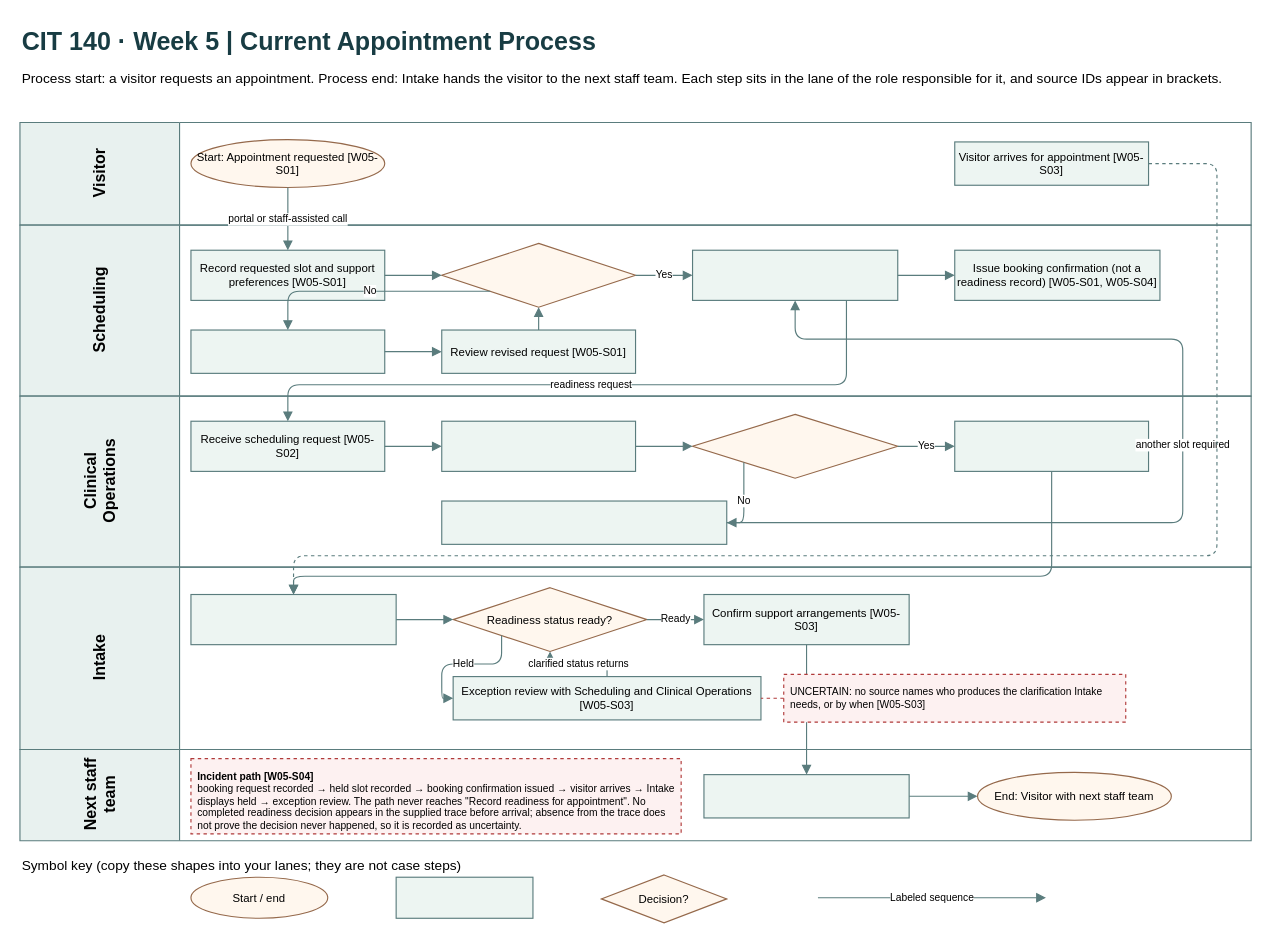
The diagram is 1271 pixels wide and 943 high, and some of its shapes have lost their labels. Each missing label, with the centre of its shape:
"Activity" belongs at (x=464, y=897).
"Booking details complete?" belongs at (x=538, y=274).
"Check room and clinician availability [W05-S02]" belongs at (x=538, y=445).
"Contact visitor for clarification [W05-S01]" belongs at (x=287, y=351).
"Locate appointment, check readiness status [W05-S03]" belongs at (x=293, y=619).
"Receive visitor from Intake [W05-S03]" belongs at (x=806, y=795).
"Record readiness for appointment [W05-S02]" belongs at (x=1051, y=445).
"Request clinical readiness decision [W05-S01]" belongs at (x=794, y=274).
"Retain held status, review capacity [W05-S02]" belongs at (x=584, y=522).
"Room and clinician available?" belongs at (x=794, y=445).
